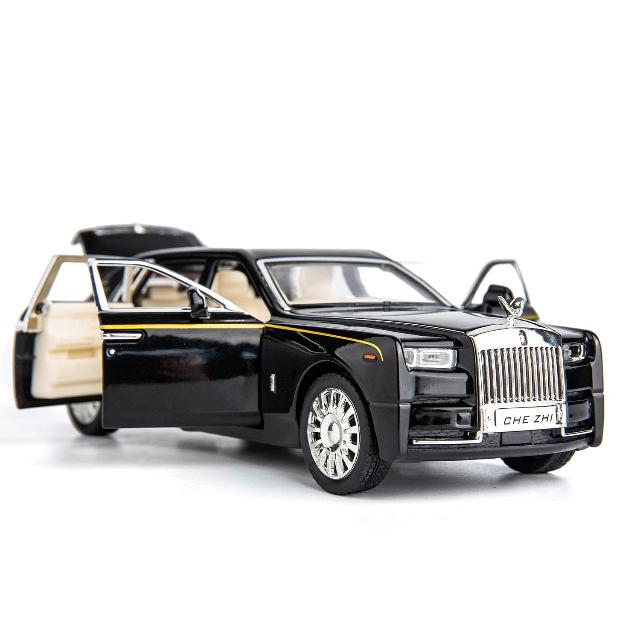rolls-royce: (12, 223, 604, 495)
